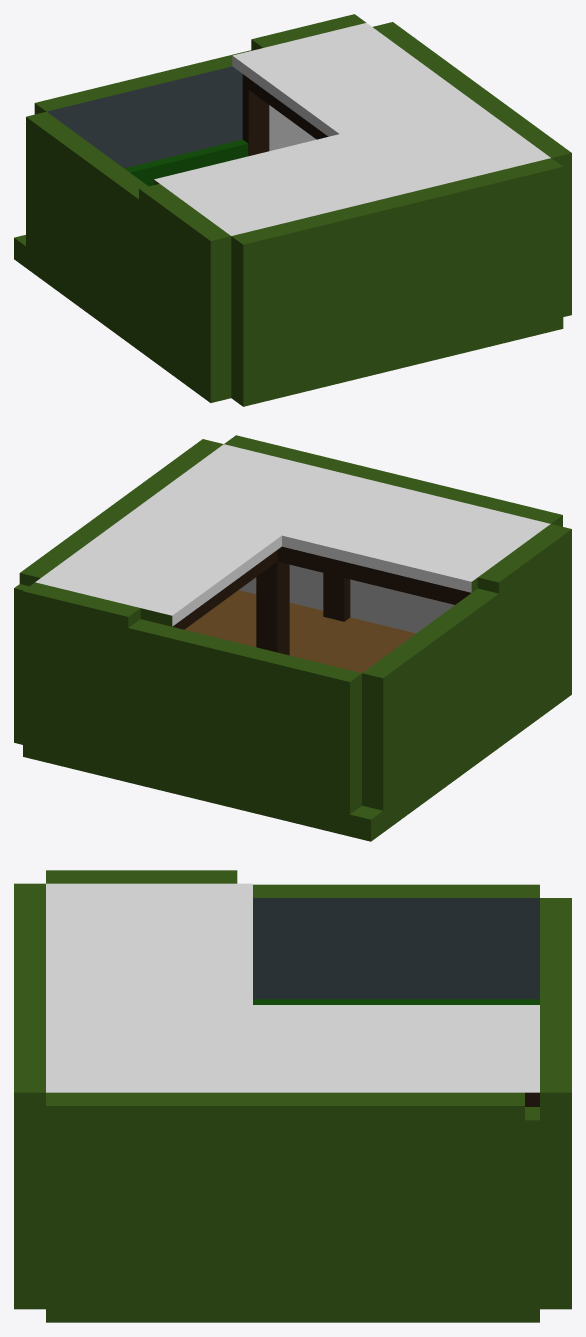
The model's file is homework room.gltf.
3 views of the same model, one above another, from view 1: azimuth 30°, elevation 25°; view 2: azimuth 150°, elevation 25°; view 3: azimuth 270°, elevation 25° (orthographic). The views are drawn at different scales.
Parts seen in each view (by area): view 1: Cube; view 2: Cube; view 3: Cube.
Boxes of the visible parts, x1,y1,x2,y2 form: Cube: (14,14,571,406); Cube: (14,435,571,841); Cube: (14,870,571,1322).
Size of the model in its own units: 35 by 15 by 35.
1 material, 1 textured.
